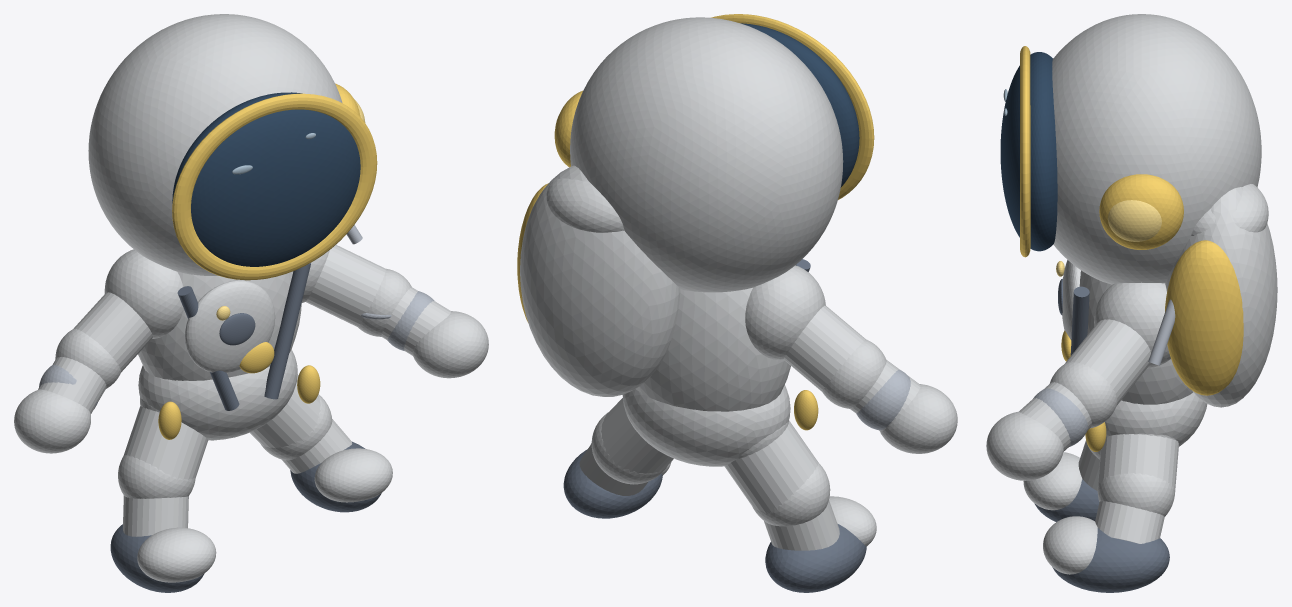
The model's file is reference_astronaut.glb.
3 renders of one model, left to right at view 1: azimuth 30°, elevation 25°; view 2: azimuth 150°, elevation 25°; view 3: azimuth 270°, elevation 25°, orthographic. The views are drawn at different scales.
Parts seen in each view (by area): view 1: helmet_shell, visor_black_glass, gold_visor_rim, waist_section, chest_control_box, upper_torso, left_shoulder, right_upper_arm, left_glove, right_glove, left_thigh, left_boot_toe (+20 smaller); view 2: helmet_shell, life_support_pack, upper_torso, waist_section, left_shoulder, left_thigh, left_boot, left_upper_arm, left_glove, gold_visor_rim, visor_black_glass, pack_top_module (+12 smaller); view 3: helmet_shell, pack_side_module, life_support_pack, visor_black_glass, right_boot, right_glove, right_upper_arm, helmet_audio_mount, waist_section, right_thigh, right_shoulder, upper_torso (+16 smaller).
Boxes of the visible parts, x1=… form: helmet_shell: x1=88, y1=14, x2=342, y2=275; visor_black_glass: x1=172, y1=92, x2=360, y2=266; gold_visor_rim: x1=172, y1=93, x2=377, y2=280; waist_section: x1=138, y1=349, x2=297, y2=440; chest_control_box: x1=185, y1=280, x2=275, y2=372; upper_torso: x1=138, y1=271, x2=301, y2=380; left_shoulder: x1=104, y1=249, x2=183, y2=338; right_upper_arm: x1=306, y1=245, x2=386, y2=326; left_glove: x1=14, y1=389, x2=90, y2=453; right_glove: x1=412, y1=311, x2=488, y2=378; left_thigh: x1=123, y1=406, x2=208, y2=481; left_boot_toe: x1=137, y1=527, x2=216, y2=582; helmet_shell: x1=570, y1=17, x2=843, y2=292; life_support_pack: x1=520, y1=165, x2=680, y2=396; upper_torso: x1=636, y1=287, x2=790, y2=411; waist_section: x1=622, y1=384, x2=790, y2=466; left_shoulder: x1=745, y1=265, x2=825, y2=359; left_thigh: x1=724, y1=420, x2=818, y2=513; left_boot: x1=765, y1=524, x2=866, y2=592; left_upper_arm: x1=783, y1=305, x2=865, y2=391; left_glove: x1=880, y1=384, x2=957, y2=453; gold_visor_rim: x1=711, y1=14, x2=874, y2=199; visor_black_glass: x1=741, y1=23, x2=859, y2=187; pack_top_module: x1=546, y1=178, x2=624, y2=232; helmet_shell: x1=1052, y1=14, x2=1261, y2=284; pack_side_module: x1=1165, y1=240, x2=1243, y2=395; life_support_pack: x1=1165, y1=187, x2=1277, y2=407; visor_black_glass: x1=1000, y1=52, x2=1057, y2=251; right_boot: x1=1052, y1=528, x2=1169, y2=592; right_glove: x1=986, y1=411, x2=1063, y2=480; right_upper_arm: x1=1065, y1=319, x2=1150, y2=405; helmet_audio_mount: x1=1099, y1=174, x2=1183, y2=249; waist_section: x1=1105, y1=392, x2=1207, y2=446; right_thigh: x1=1098, y1=434, x2=1178, y2=491; right_shoulder: x1=1094, y1=282, x2=1170, y2=368; upper_torso: x1=1079, y1=270, x2=1192, y2=404.
Bounding box in the file's own units: 2.87 × 3.37 × 1.65.
